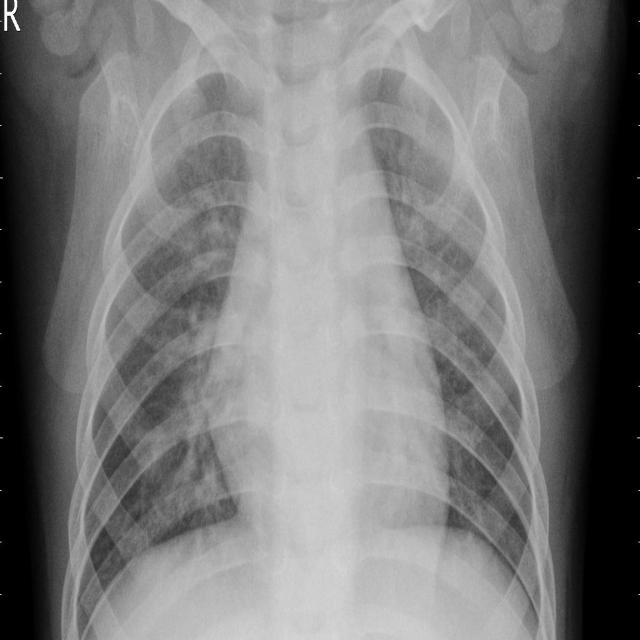viral_pneumonia: (4, 0, 639, 636)
